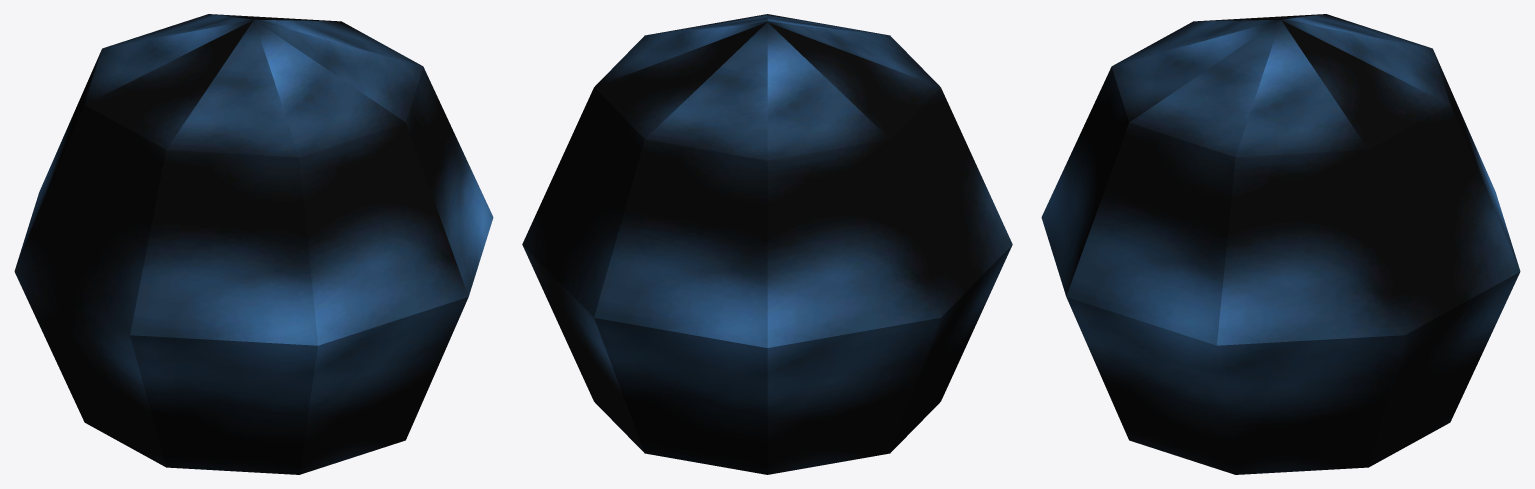
Rendered from tx_guiji_a3_trace.obj.
3 renders of one model, left to right at view 1: azimuth 30°, elevation 25°; view 2: azimuth 150°, elevation 25°; view 3: azimuth 270°, elevation 25°, orthographic.
Visible parts, largest first — view 1: Sphere01; view 2: Sphere01; view 3: Sphere01.
Boxes of the visible parts, box(x1,y1,x2,y2) form: Sphere01: box(14, 14, 493, 474); Sphere01: box(522, 14, 1012, 474); Sphere01: box(1041, 14, 1520, 474).
Bounding box in the file's own units: 19.32 × 20 × 19.32.
Materials: 1 (1 with a texture image).
